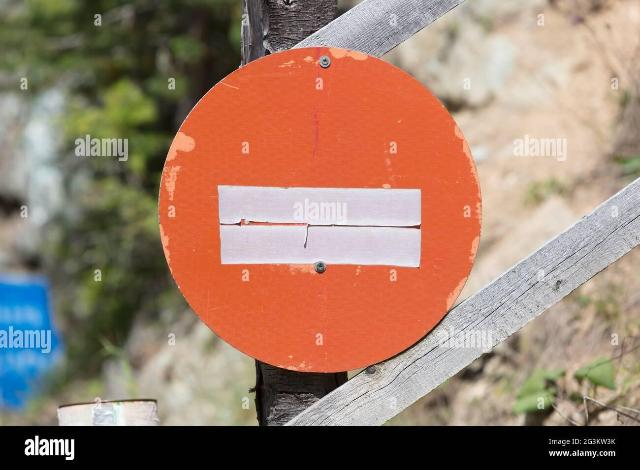B2: (157, 44, 483, 373)
